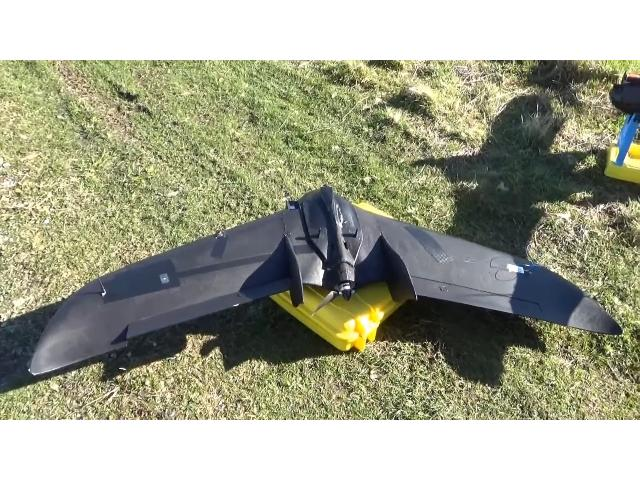Anti-Drone: (19, 177, 634, 391)
